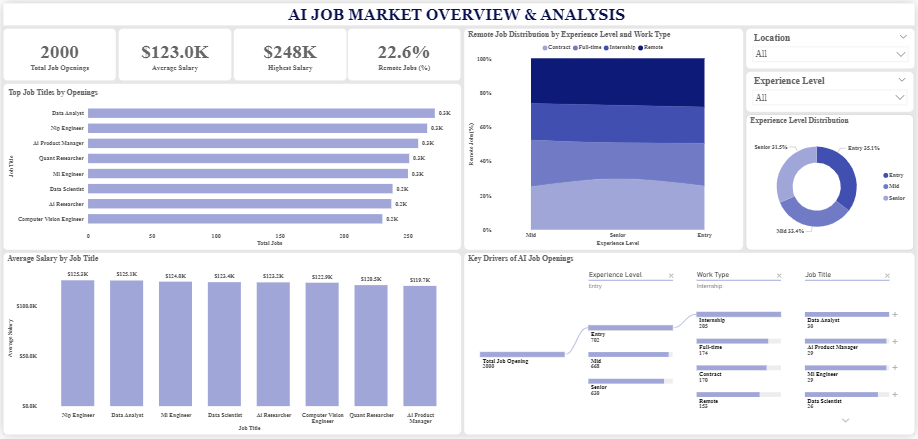

What the dashboard file says about the page in this screenshot:
{"tool":"powerbi","page":{"name":"Overview","canvas":[1900,900],"ordinal":0},"visuals":[{"type":"textbox","box":[0,0,1900,47.5],"z":0},{"type":"card","fields":{"Values":["ai_job_market.Total Job Opening"]},"box":[0,53,236,109.7],"z":1000},{"type":"card","fields":{"Values":["ai_job_market.Average Salary"]},"box":[239.3,53,236.4,109.7],"z":2000},{"type":"card","fields":{"Values":["ai_job_market.Max Salary Offered"]},"box":[479,53,236.4,109.7],"z":3000},{"type":"card","fields":{"Values":["ai_job_market.Remote %"]},"box":[718.7,53,236.4,109.7],"z":4000},{"type":"clusteredBarChart","title":"Top Job Titles by Openings","fields":{"Category":["ai_job_market.Job Title"],"Y":["ai_job_market.Total Jobs"]},"box":[0,167.5,955,347.5],"z":5000},{"type":"clusteredColumnChart","fields":{"Category":["ai_job_market.Job Title"],"Y":["ai_job_market.Average Salary"]},"box":[0,520,955,380],"z":6000},{"type":"slicer","title":"Location","fields":{"Values":["ai_job_market.Location"]},"box":[1547.5,52.5,352.5,85],"z":7000},{"type":"donutChart","title":"Experience Level Distribution","fields":{"Category":["ai_job_market.Experience Level"],"Y":["CountNonNull(ai_job_market.Job Title)"]},"box":[1547.5,232.5,350,282.5],"z":8000},{"type":"hundredPercentStackedAreaChart","title":"Remote Job Distribution by Experience Level and Work Type","fields":{"Category":["ai_job_market.Experience Level"],"Y":["ai_job_market.Remote Jobs (%)"],"Series":["ai_job_market.Work Type"]},"box":[960,52.5,582.5,462.5],"z":9000},{"type":"decompositionTreeVisual","title":"Key Drivers of AI Job Openings","fields":{"Analyze":["ai_job_market.Total Job Opening"],"ExplainBy":["ai_job_market.Experience Level","ai_job_market.Work Type","ai_job_market.Job Title","ai_job_market.Location"]},"box":[960,520,940,380],"z":10000},{"type":"slicer","title":"Location","fields":{"Values":["ai_job_market.Experience Level"]},"box":[1547.5,142.5,350,85],"z":11000}]}

Visuals, with their boxes in screenshot pixels (x1, y1, x2, y2), scaled from the page's 1900x900 canvas onto the 918x439 screenshot:
textbox: x1=0, y1=0, x2=917, y2=23
card - ai_job_market.Total Job Opening: x1=0, y1=26, x2=114, y2=79
card - ai_job_market.Average Salary: x1=116, y1=26, x2=230, y2=79
card - ai_job_market.Max Salary Offered: x1=231, y1=26, x2=346, y2=79
card - ai_job_market.Remote %: x1=347, y1=26, x2=461, y2=79
"Top Job Titles by Openings" clusteredBarChart: x1=0, y1=82, x2=461, y2=251
clusteredColumnChart - ai_job_market.Job Title x ai_job_market.Average Salary: x1=0, y1=254, x2=461, y2=438
"Location" slicer: x1=748, y1=26, x2=917, y2=67
"Experience Level Distribution" donutChart: x1=748, y1=113, x2=917, y2=251
"Remote Job Distribution by Experience Level and Work Type" hundredPercentStackedAreaChart: x1=464, y1=26, x2=745, y2=251
"Key Drivers of AI Job Openings" decompositionTreeVisual: x1=464, y1=254, x2=917, y2=438
"Location" slicer: x1=748, y1=70, x2=917, y2=111
